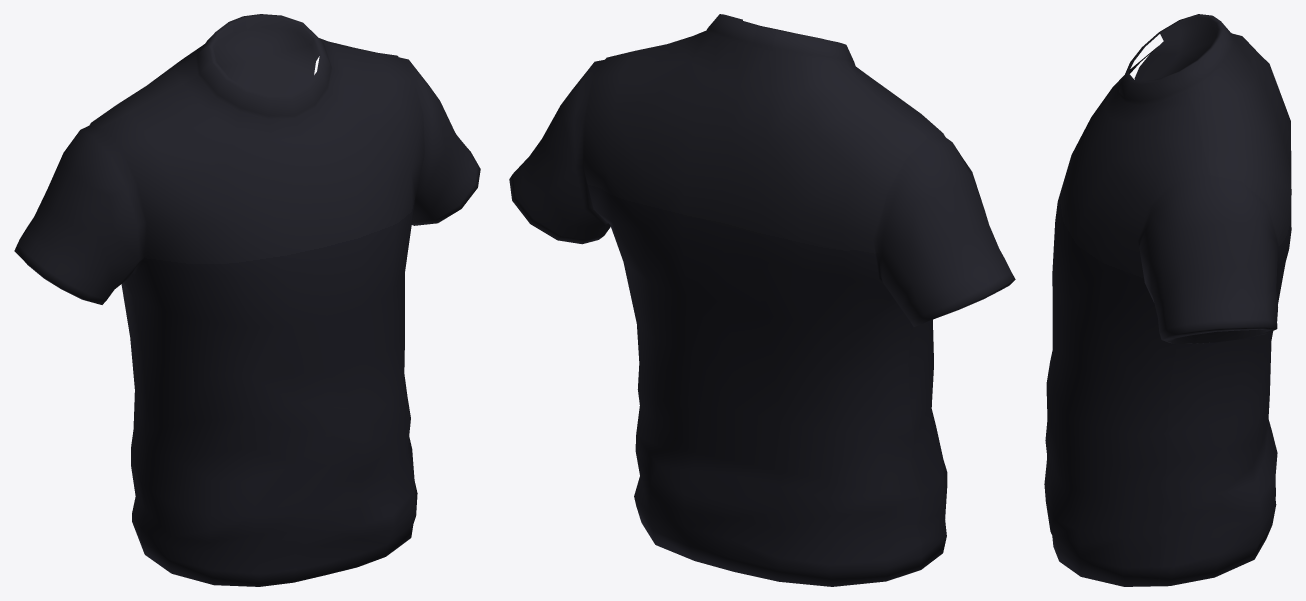
The model's file is cloth00.glb.
3 renders of one model, left to right at view 1: azimuth 30°, elevation 25°; view 2: azimuth 150°, elevation 25°; view 3: azimuth 270°, elevation 25°, orthographic. The views are drawn at different scales.
Parts seen in each view (by area): view 1: Top; view 2: Top; view 3: Top.
Part boxes in pixels (x1,y1,x2,y2): Top: (14, 14, 480, 586); Top: (509, 14, 1015, 586); Top: (1044, 14, 1291, 586).
Size of the model in its own units: 1.19 by 1.28 by 0.5643.
Materials: 1 (1 with a texture image).
